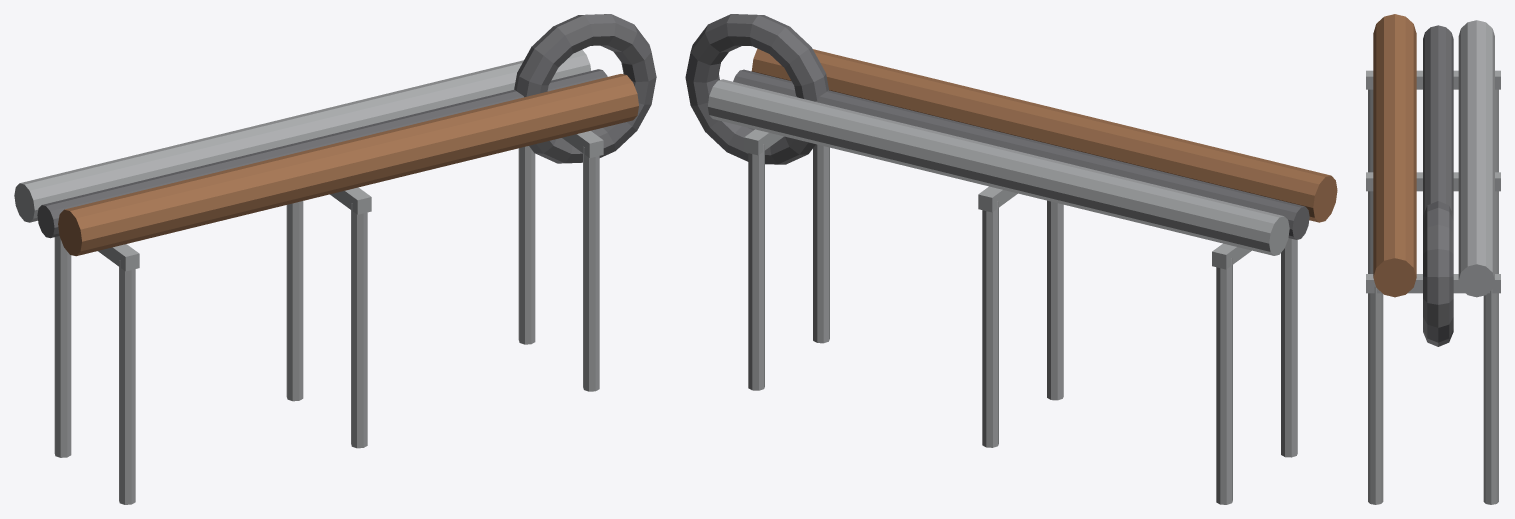
The model's file is PipeRack.glb.
3 renders of one model, left to right at view 1: azimuth 30°, elevation 25°; view 2: azimuth 150°, elevation 25°; view 3: azimuth 270°, elevation 25°, orthographic. The views are drawn at different scales.
Parts seen in each view (by area): view 1: Pipe, Pipe.002, Expansion loop, Pipe.001, Member.078, Member.080, Member.076, Member.077, Member.079, Member.081, Rack beam, Rack beam.001 (+1 smaller); view 2: Pipe.002, Pipe, Expansion loop, Pipe.001, Member.077, Member.081, Member.079, Member.076, Member.078, Member.080; view 3: Pipe, Pipe.002, Pipe.001, Expansion loop, Member.080, Member.081, Rack beam.002, Rack beam, Rack beam.001, Member.076, Member.078, Member.077 (+1 smaller).
Boxes of the visible parts, box(x1,y1,x2,y2) form: Pipe: box(58, 74, 638, 256); Pipe.002: box(14, 50, 590, 222); Expansion loop: box(514, 14, 656, 163); Pipe.001: box(37, 69, 607, 238); Member.078: box(351, 203, 367, 448); Member.080: box(583, 147, 599, 391); Member.076: box(119, 260, 135, 504); Member.077: box(54, 236, 71, 457); Member.079: box(286, 201, 303, 401); Member.081: box(518, 146, 535, 344); Rack beam: box(98, 244, 139, 271); Rack beam.001: box(330, 187, 371, 214); Pipe.002: box(707, 79, 1289, 255); Pipe: box(751, 48, 1337, 222); Expansion loop: box(685, 14, 828, 164); Pipe.001: box(733, 69, 1309, 239); Member.077: box(1216, 258, 1232, 504); Member.081: box(748, 144, 764, 390); Member.079: box(982, 201, 998, 447); Member.076: box(1281, 238, 1297, 457); Member.078: box(1047, 200, 1063, 400); Member.080: box(813, 144, 829, 343); Pipe: box(1373, 14, 1416, 297); Pipe.002: box(1458, 20, 1494, 297); Pipe.001: box(1423, 25, 1453, 215); Expansion loop: box(1423, 201, 1453, 346); Member.080: box(1368, 286, 1383, 504); Member.081: box(1483, 290, 1498, 504); Rack beam.002: box(1366, 274, 1500, 293); Rack beam: box(1366, 70, 1500, 89); Rack beam.001: box(1366, 172, 1500, 191); Member.076: box(1368, 89, 1373, 172); Member.078: box(1368, 191, 1373, 273); Member.077: box(1495, 89, 1498, 172).
Size of the model in its own units: 13.12 by 7.02 by 2.8.
